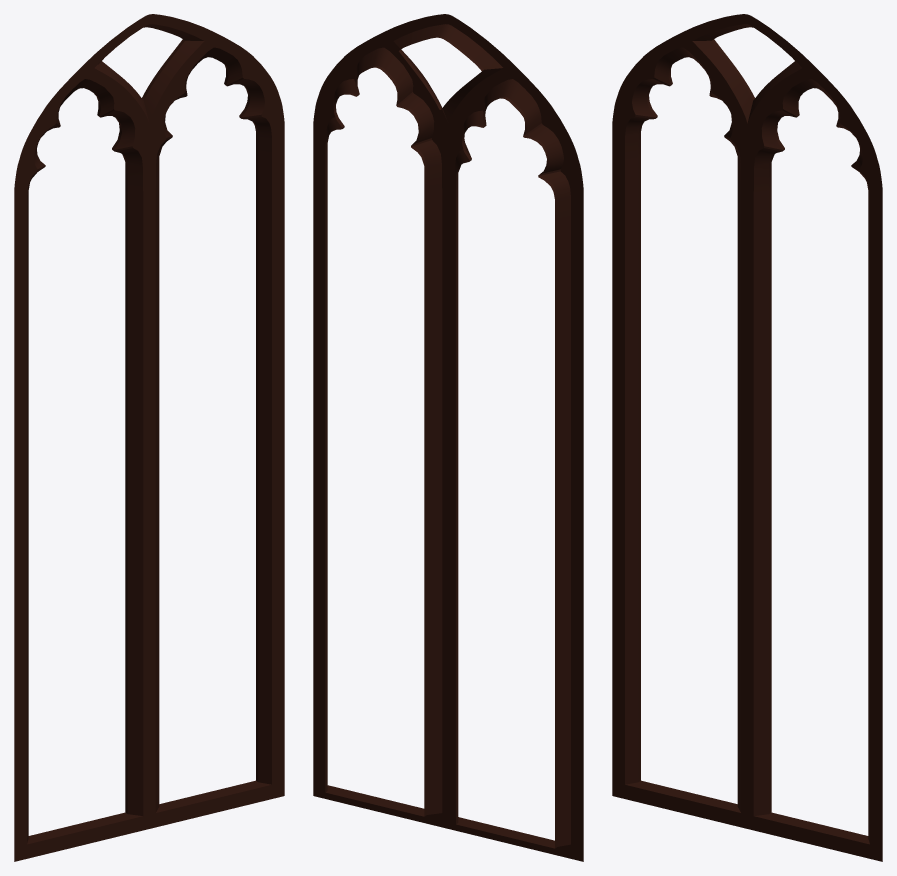
Rendered from Window_Blockout_01.fbx.
The picture shows the model from 3 angles, left to right: view 1: azimuth 30°, elevation 25°; view 2: azimuth 150°, elevation 25°; view 3: azimuth 330°, elevation 25°; orthographic projection.
Visible parts, largest first — view 1: Window_Blockout_01; view 2: Window_Blockout_01; view 3: Window_Blockout_01.
Boxes of the visible parts, x1,y1,x2,y2 form: Window_Blockout_01: [14, 14, 284, 861]; Window_Blockout_01: [313, 14, 583, 861]; Window_Blockout_01: [612, 14, 882, 861].
Bounding box in the file's own units: 125 × 361 × 6.6.
